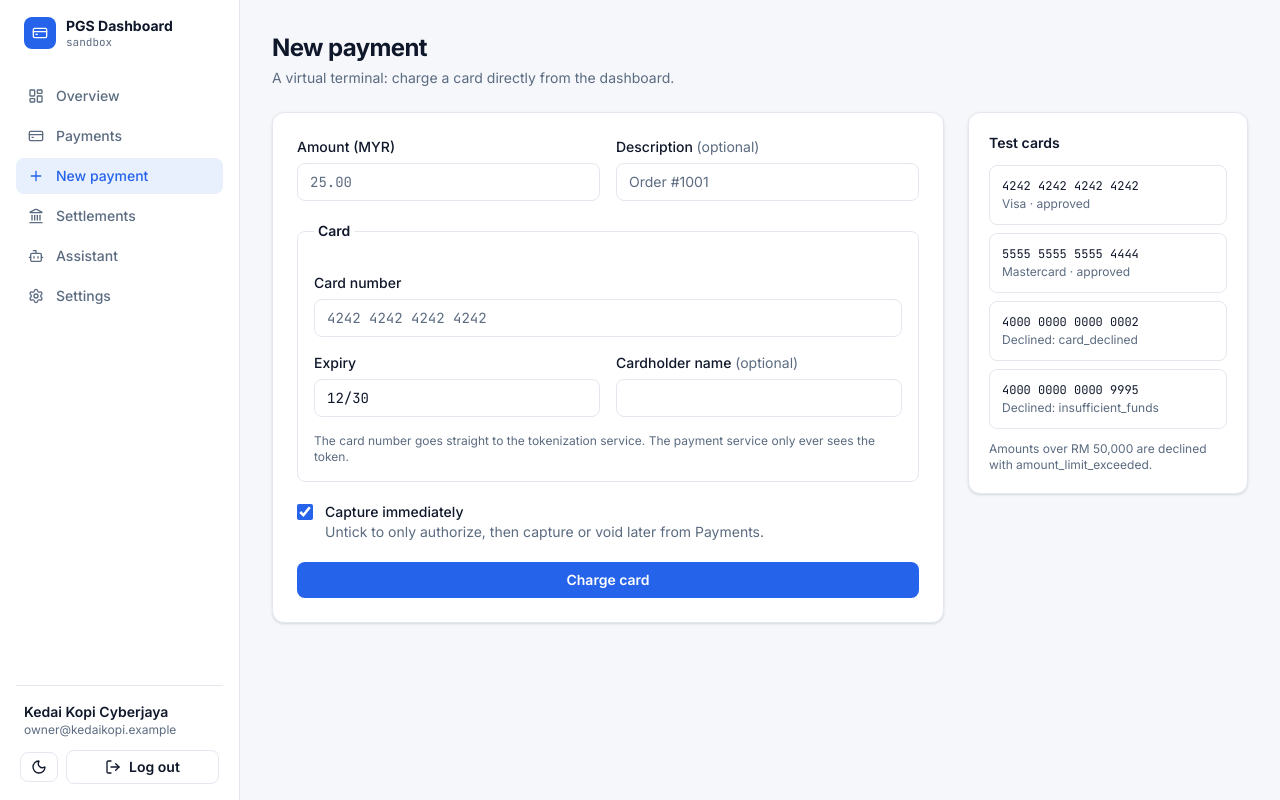
Test: new payment › shows a decline for the magic test card
The image size is (1280, 800).
Type "10" into the field labelled "Amount (MYR)".
click(448, 182); type("10")  # box [297,163,600,201]
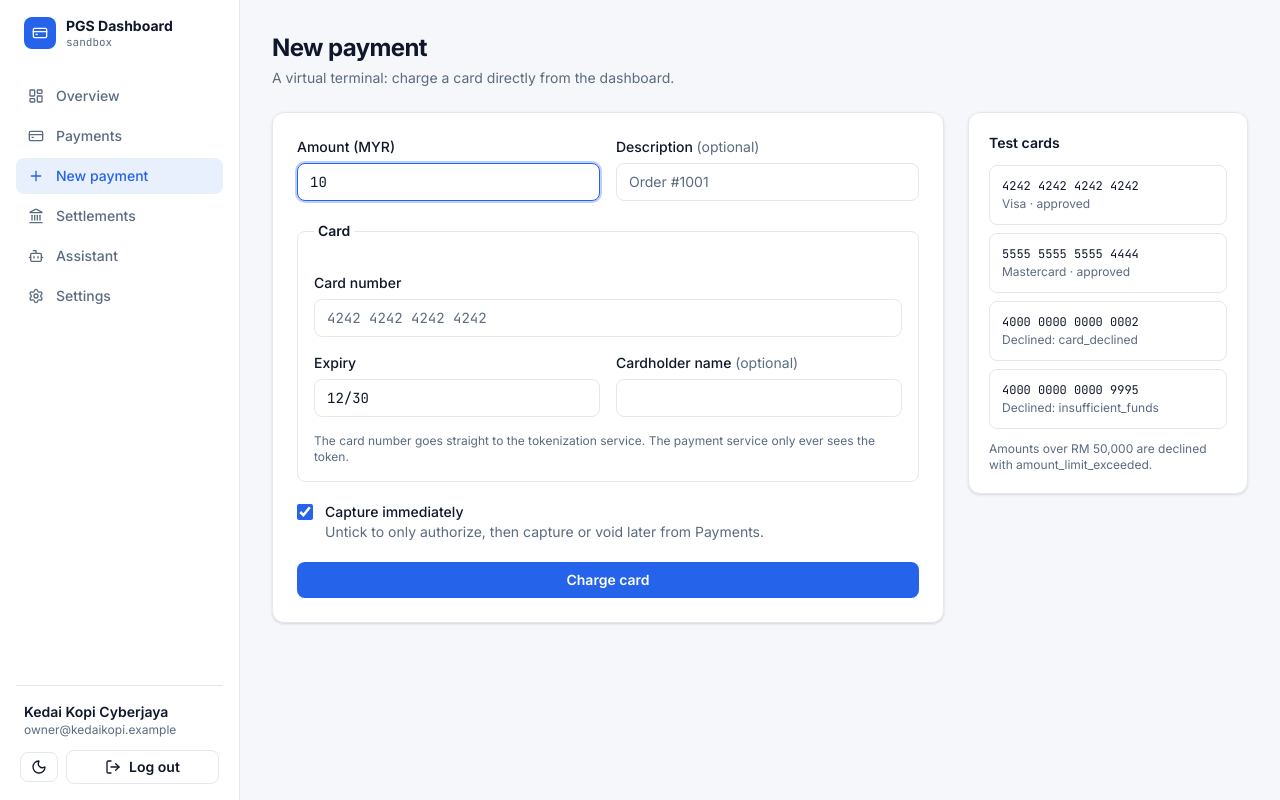
Click the button "4000 0000 0000 0002 Declined: card_declined".
click(1108, 331)  # box [989,301,1227,361]
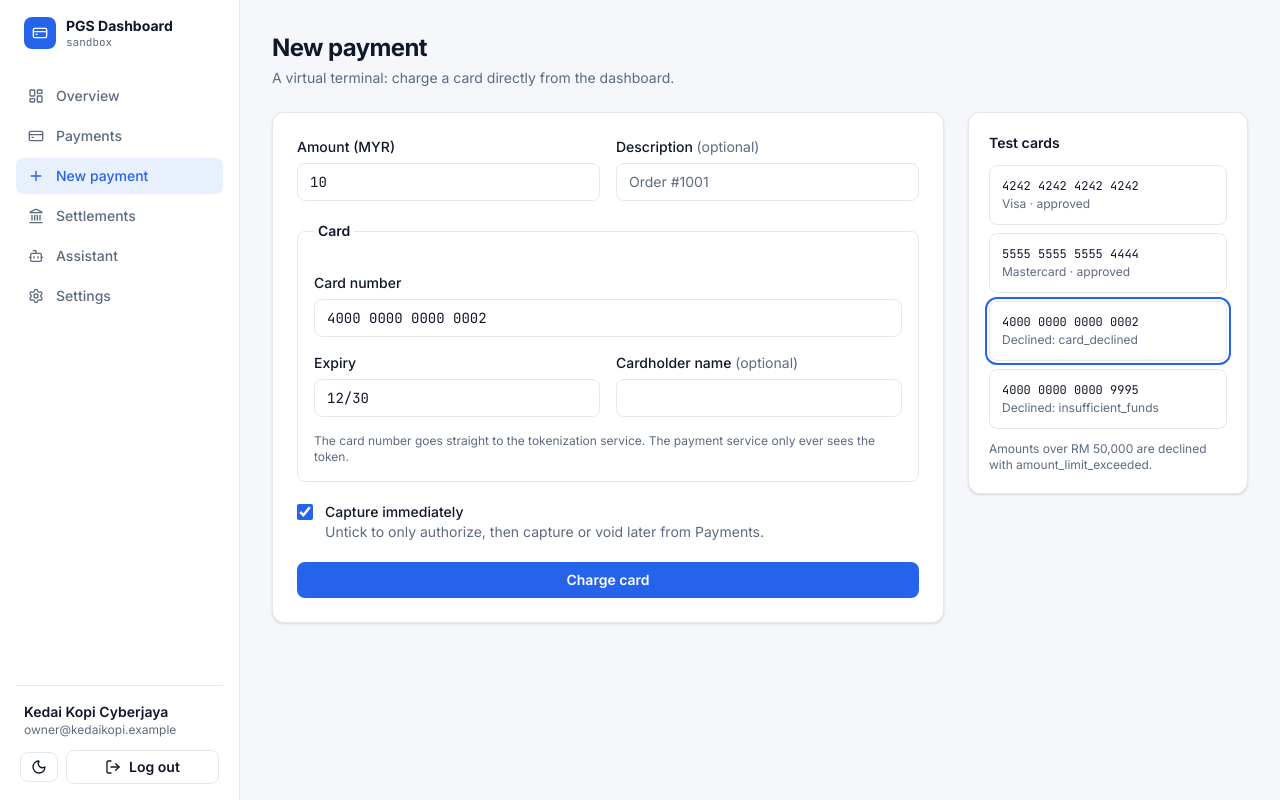
Click the button "Charge card".
click(608, 580)  # box [297,562,919,598]
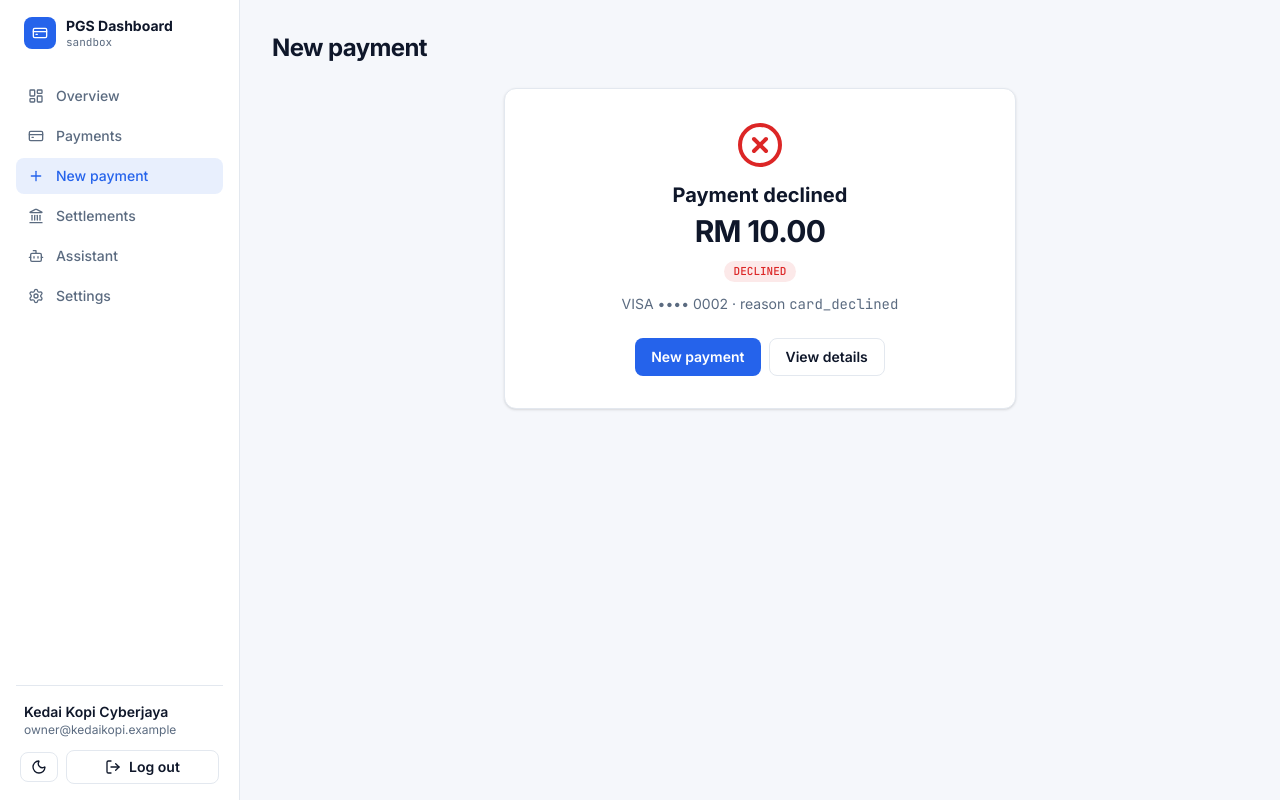
Expected: the text "card_declined" is shown, [789,294,898,312]
Result: the heading "Payment declined" is shown at [673,183,847,207]
